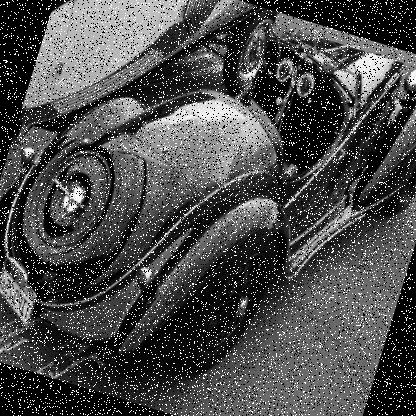Car: (0, 0, 415, 415), (17, 0, 279, 186)
